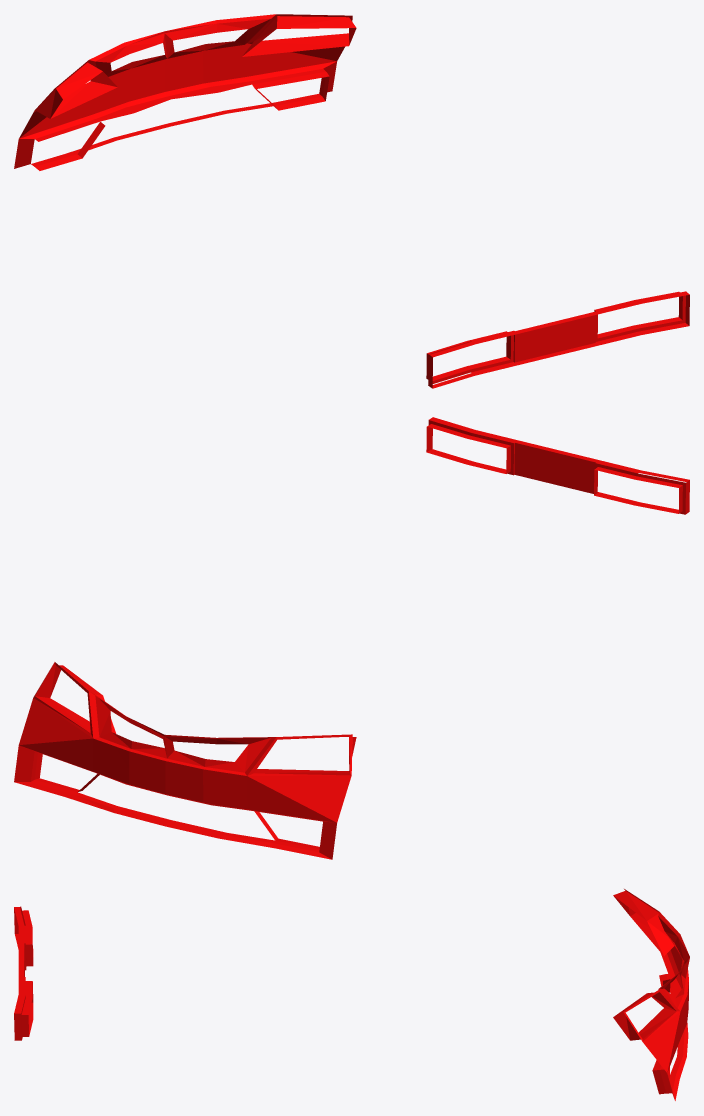
File: bumper.glb
The picture shows the model from 3 angles, top to bottom: view 1: azimuth 30°, elevation 25°; view 2: azimuth 150°, elevation 25°; view 3: azimuth 270°, elevation 25°; orthographic projection. The views are drawn at different scales.
Parts seen in each view (by area): view 1: bumper_Cube.001; view 2: bumper_Cube.001; view 3: bumper_Cube.001.
Part boxes in pixels (x1,y1,x2,y2): bumper_Cube.001: (14,14,689,388); bumper_Cube.001: (14,417,689,859); bumper_Cube.001: (14,889,689,1100).
Bounding box in the file's own units: 2.05 × 0.618 × 4.42.
1 material, 1 textured.
